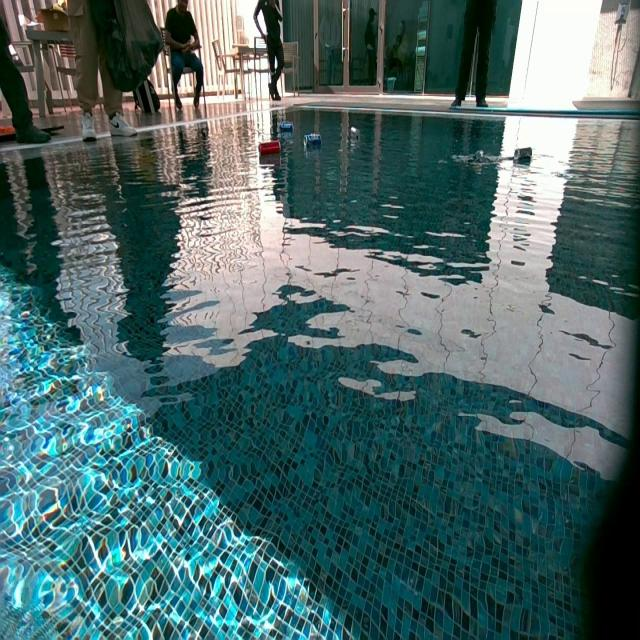Cans: (260, 142, 282, 157), (514, 146, 533, 162), (305, 133, 323, 149), (279, 120, 294, 132), (350, 127, 361, 140)
